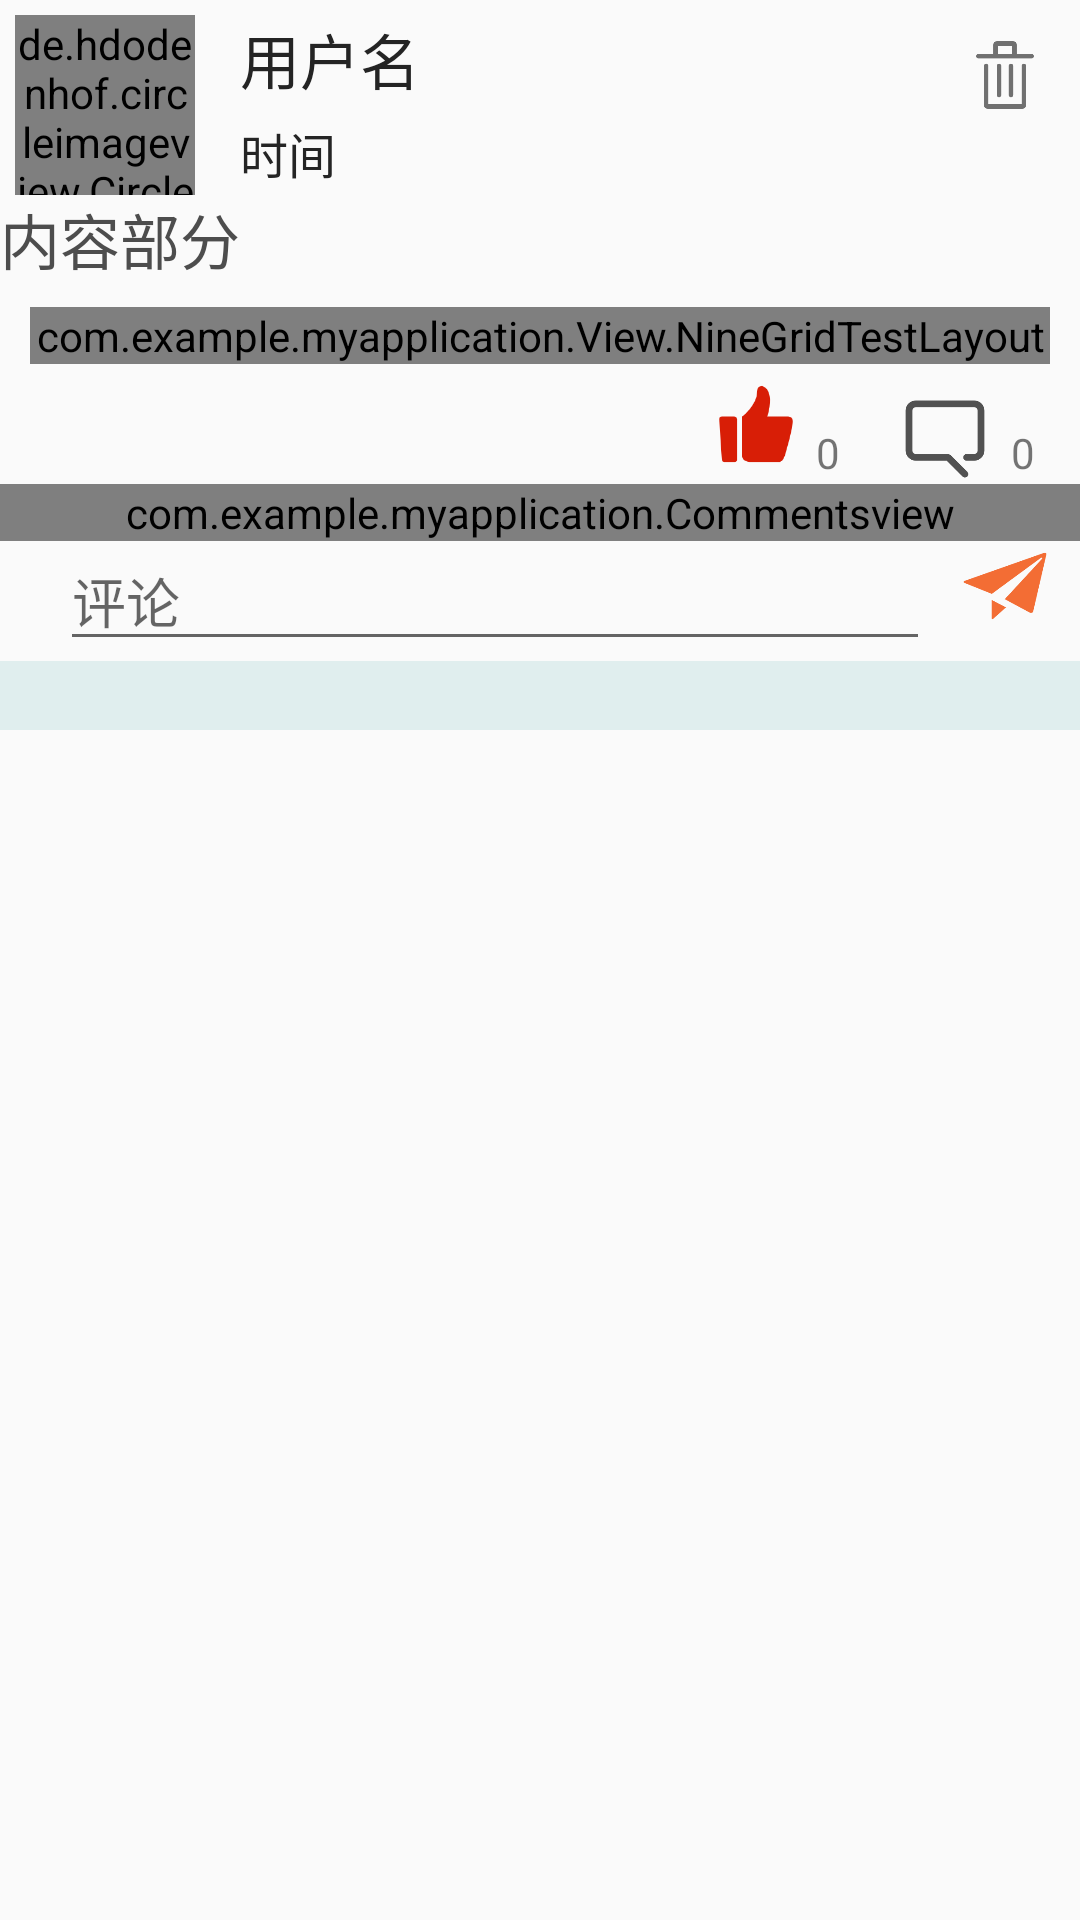

Named icons in this screenshot (1080×1920) and their bounding boxes, bbox=(x1, y1, x2, y2):
dianzan: bbox=(719, 386, 793, 462)
fabiao: bbox=(963, 553, 1047, 619)
pinglun: bbox=(905, 400, 985, 478)
recycle: bbox=(976, 41, 1034, 109)
